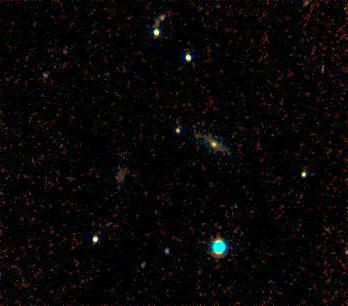star: (140, 15, 170, 45)
